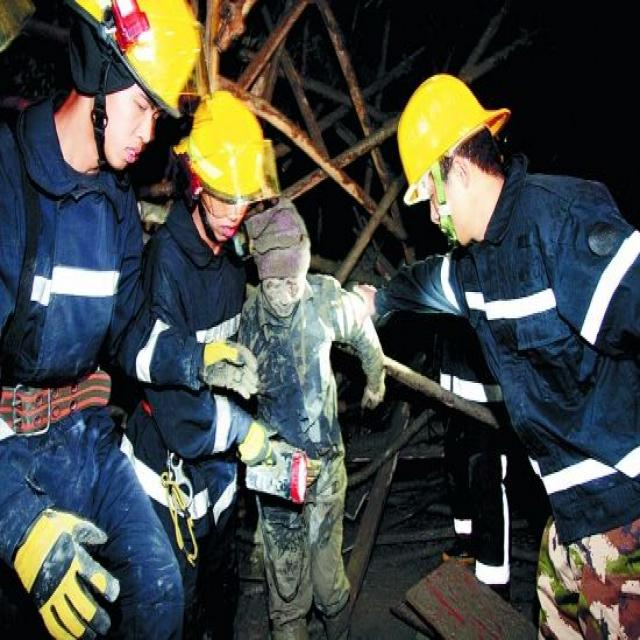Reflective-Jacket: (0, 72, 141, 638), (478, 182, 636, 629)
Safety-Helmet: (73, 2, 204, 117), (395, 70, 506, 196), (185, 86, 278, 204)
